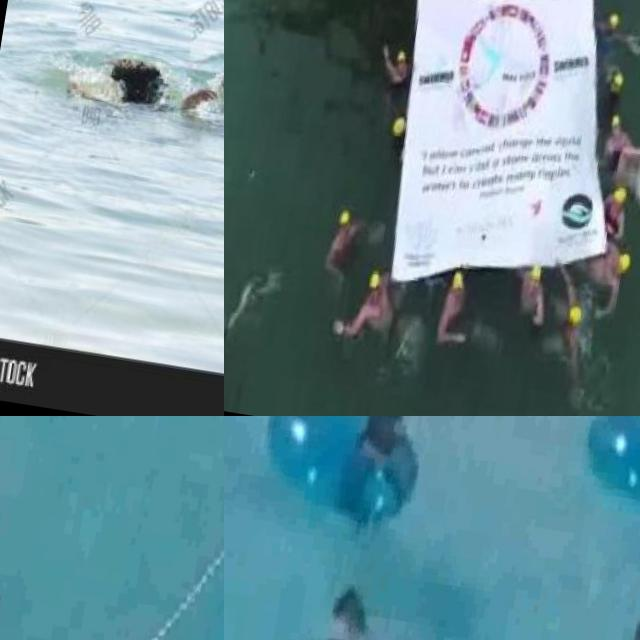drowning: (66, 1, 196, 122), (269, 551, 442, 640), (373, 42, 398, 74)
swimming: (344, 268, 394, 356), (318, 198, 368, 286), (432, 270, 480, 358), (510, 268, 554, 338), (602, 178, 640, 239), (376, 38, 412, 90)
